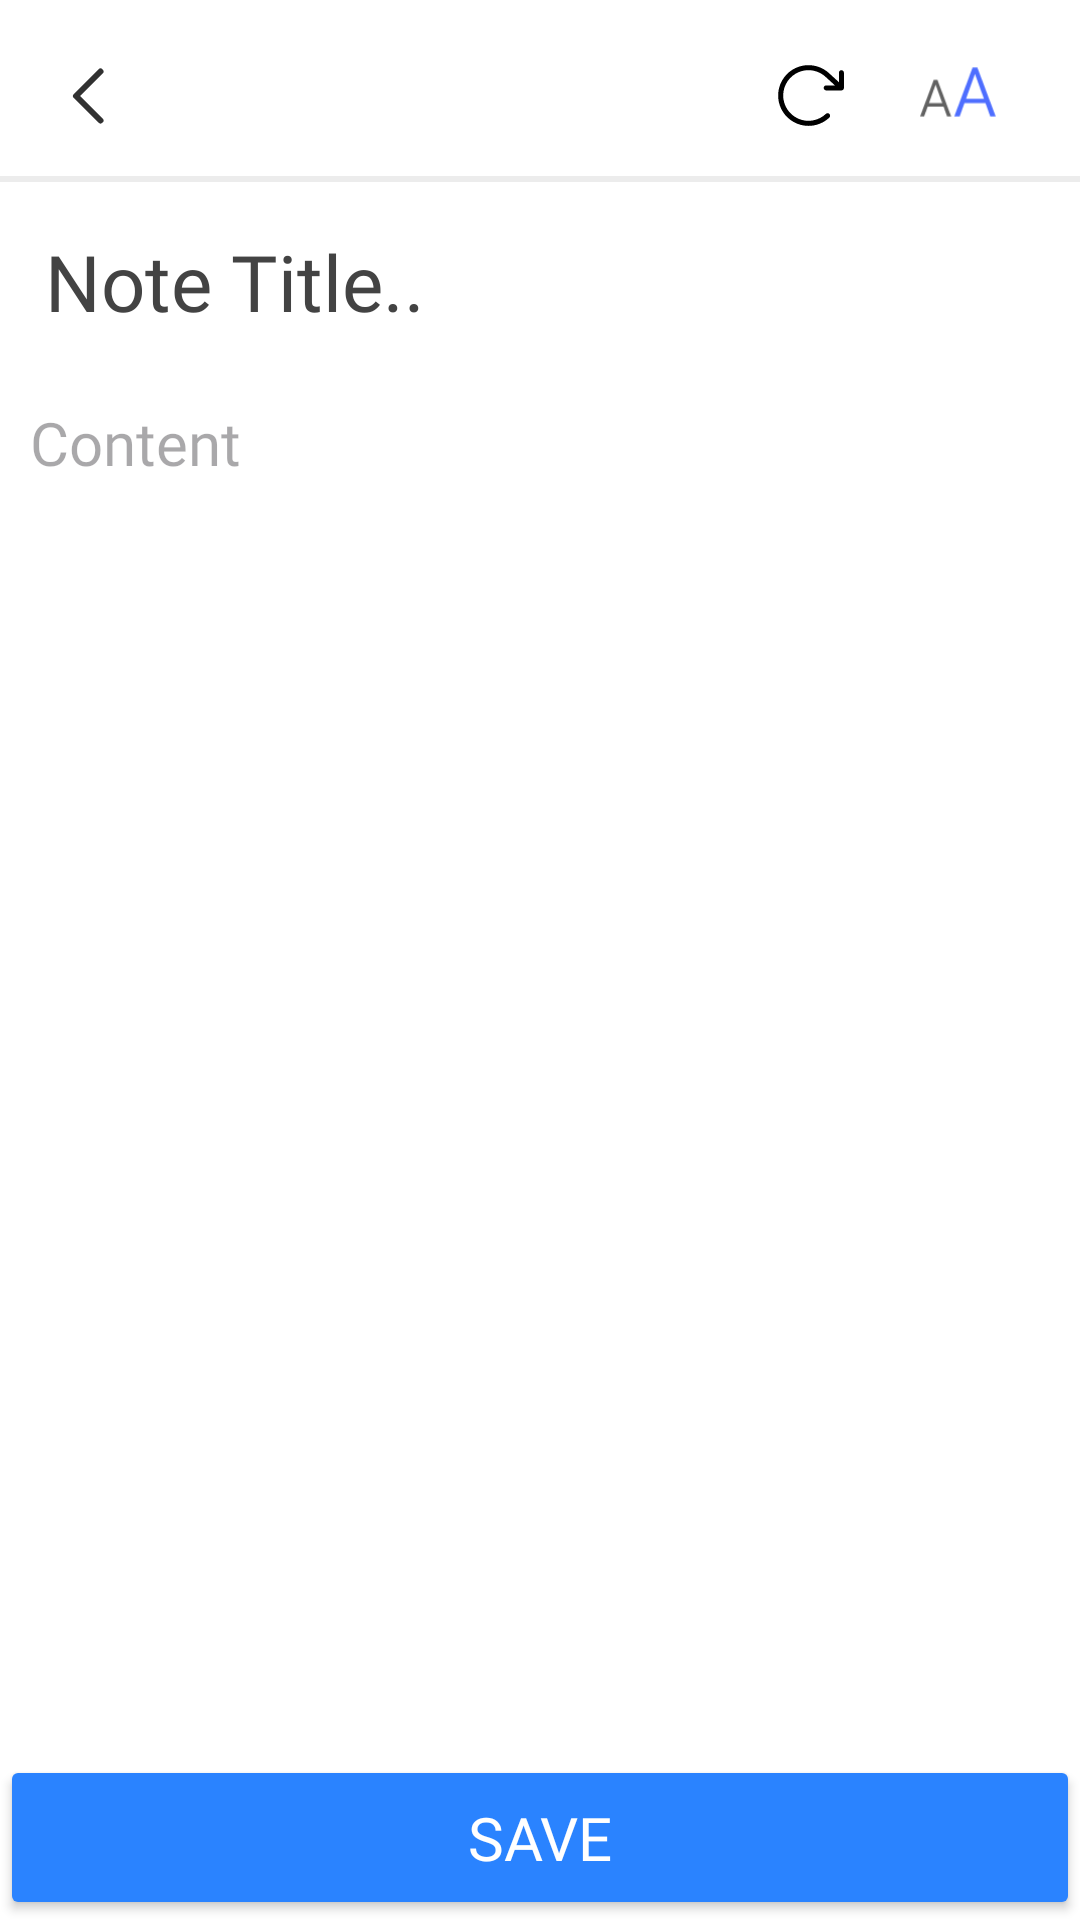

Locate icon controls on the screen. Image size 1080w x 1920h, boxes as (x1, y1, x2, y2).
cheanch size: (920, 67, 996, 117)
exit: (73, 68, 104, 124)
